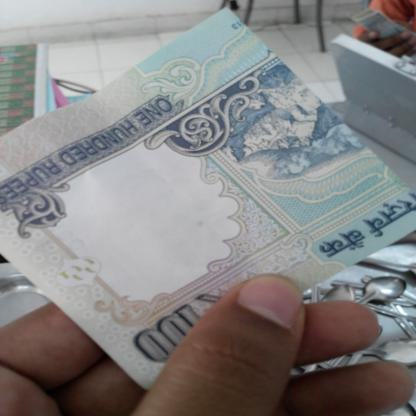Old100Back: (0, 5, 416, 392)
